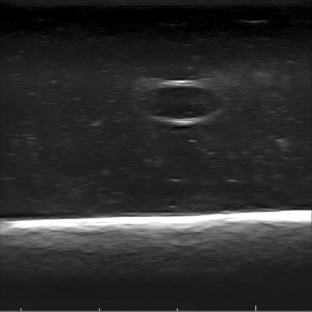vessel: (140, 79, 224, 125)
